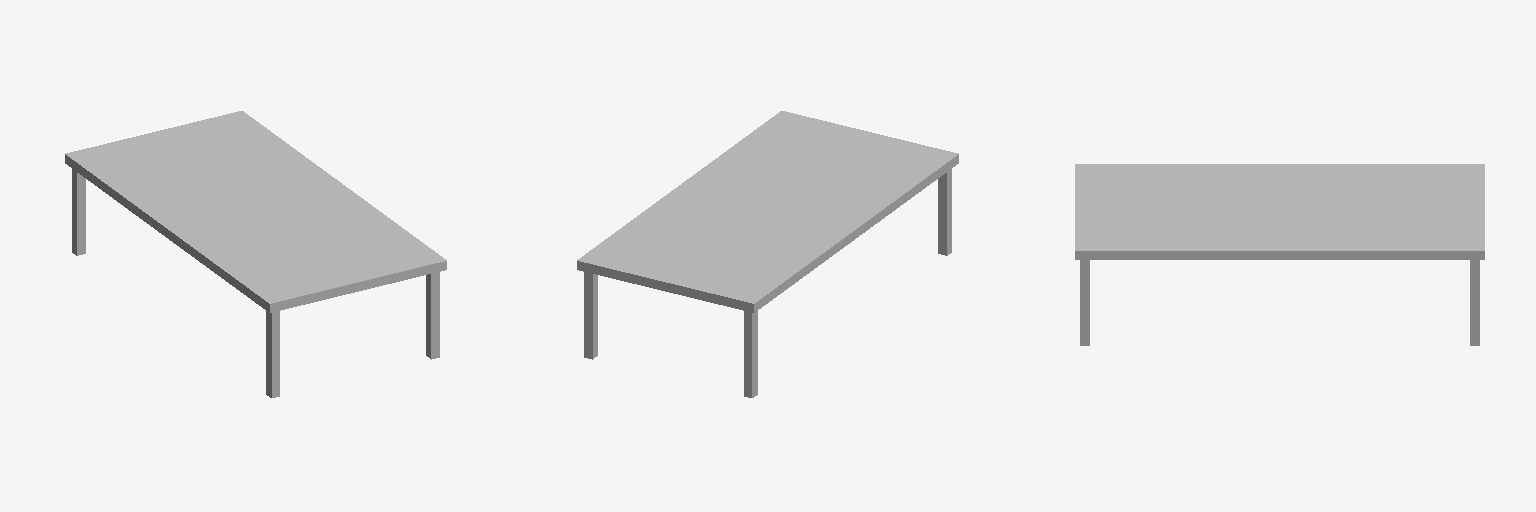
The model's file is table.obj.
3 renders of one model, left to right at view 1: azimuth 30°, elevation 25°; view 2: azimuth 150°, elevation 25°; view 3: azimuth 270°, elevation 25°, orthographic.
Visible parts, largest first — view 1: Cube; view 2: Cube; view 3: Cube.
Boxes of the visible parts, box(x1,y1,x2,y2) form: Cube: box(65, 111, 446, 397); Cube: box(577, 111, 958, 397); Cube: box(1075, 164, 1484, 345).
Size of the model in its own units: 4 by 2.1 by 8.